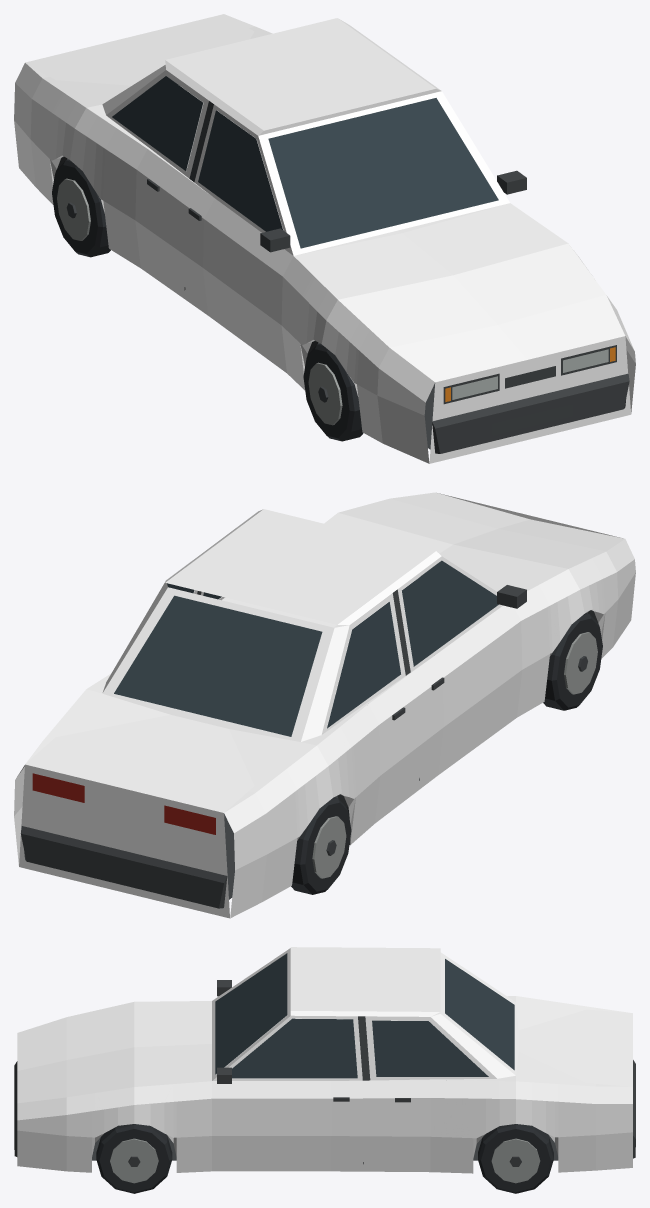
Rendered from sanga_kairo_s.glb.
3 renders of one model, top to bottom at view 1: azimuth 30°, elevation 25°; view 2: azimuth 150°, elevation 25°; view 3: azimuth 270°, elevation 25°, orthographic. The views are drawn at different scales.
Visible parts, largest first — view 1: sanga_kairo_s; view 2: sanga_kairo_s; view 3: sanga_kairo_s.
Boxes of the visible parts, x1,y1,x2,y2 form: sanga_kairo_s: [14, 14, 635, 463]; sanga_kairo_s: [14, 492, 635, 918]; sanga_kairo_s: [14, 947, 635, 1193].
Size of the model in its own units: 1.84 by 1.49 by 4.97.
Materials: 8 (1 with a texture image).
